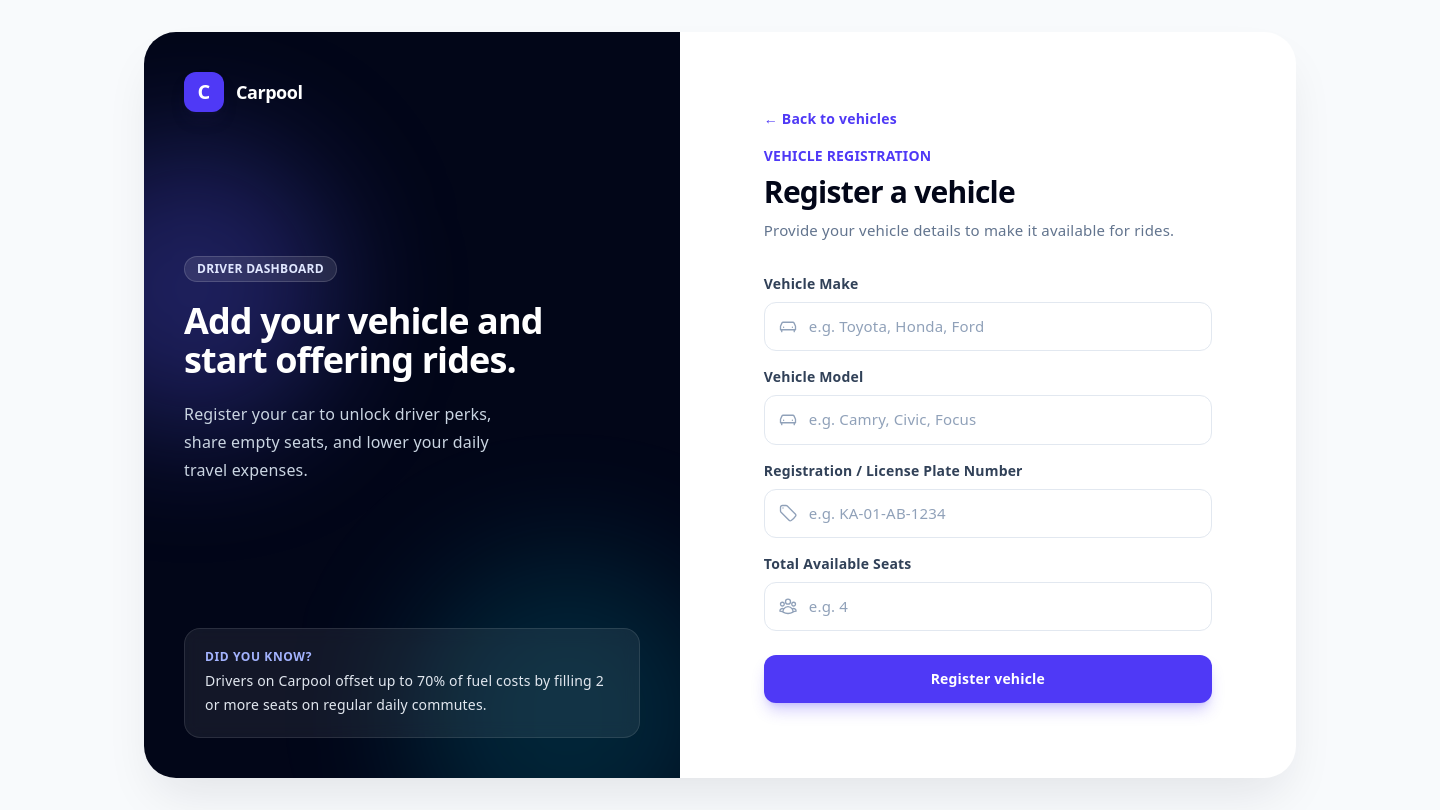
Test case: RegisterVehiclePage › shows validation errors when submitting an empty form
Click the button "Register vehicle" at (988, 679), box [764,655,1212,703]
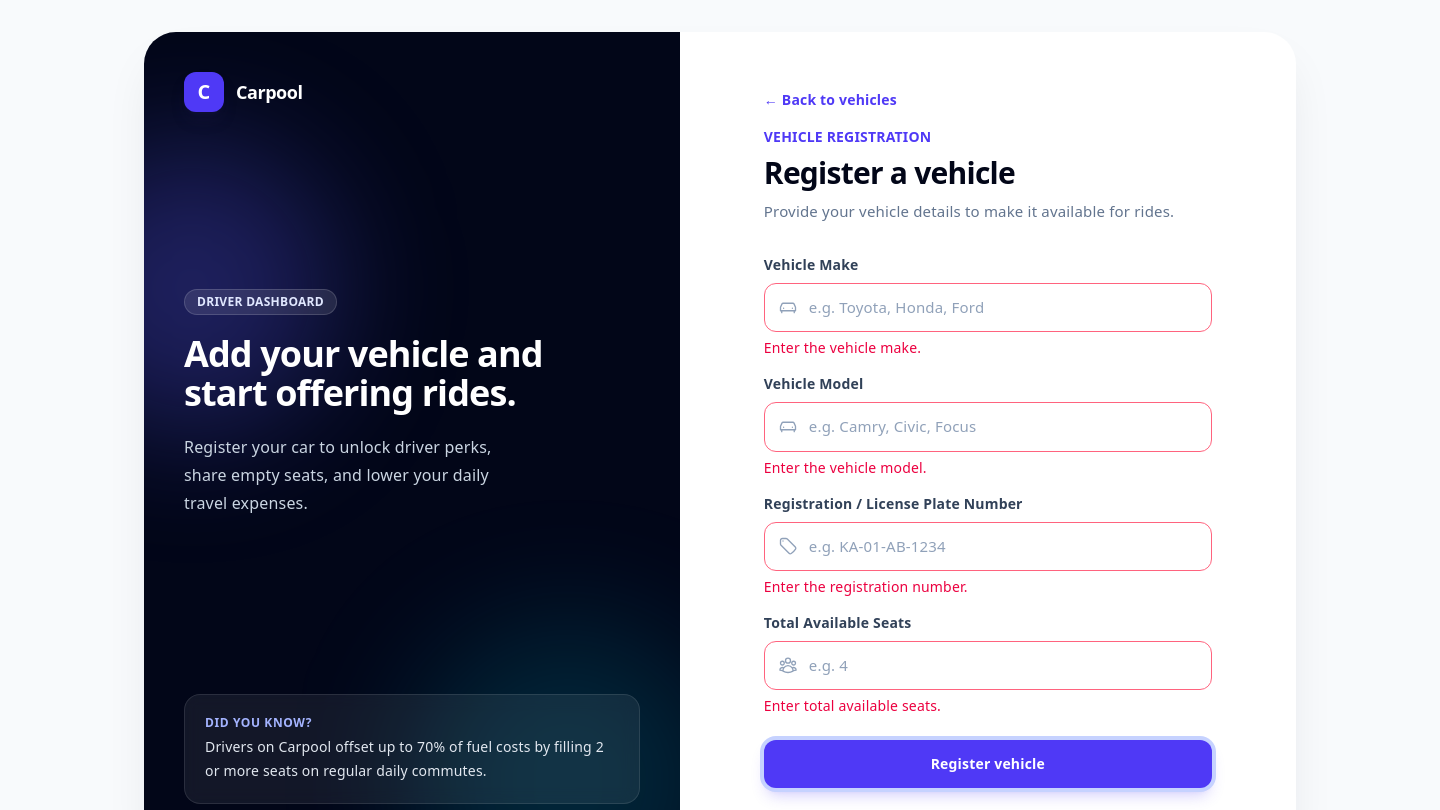
Expected: the text "Enter the vehicle make." is shown, [764,338,921,357]
Expected: the text "Enter the vehicle model." is shown, [764,458,927,477]
Expected: the text "Enter the registration number." is shown, [764,577,968,596]
